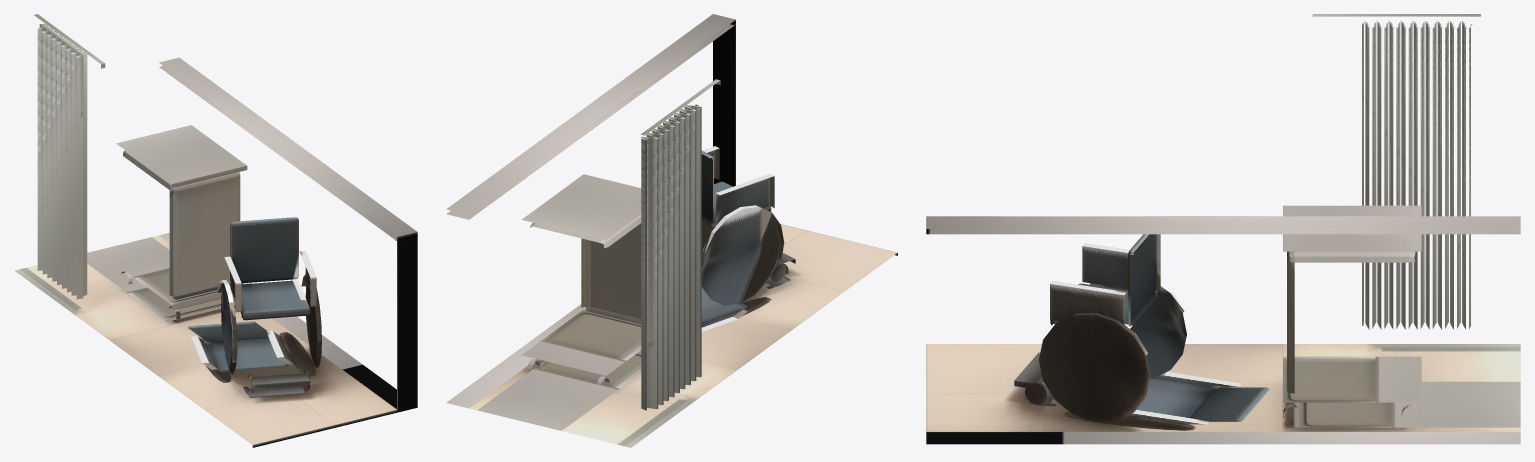
Rendered from side-right-alt.glb.
3 renders of one model, left to right at view 1: azimuth 30°, elevation 25°; view 2: azimuth 150°, elevation 25°; view 3: azimuth 270°, elevation 25°, orthographic. The views are drawn at different scales.
Visible parts, largest first — view 1: sideRightAlt; view 2: sideRightAlt; view 3: sideRightAlt.
Boxes of the visible parts, bbox=[...] form: sideRightAlt: bbox=[15, 14, 417, 447]; sideRightAlt: bbox=[446, 14, 897, 447]; sideRightAlt: bbox=[926, 14, 1520, 444].
Bounding box in the file's own units: 1.2 × 1.87 × 3.
Materials: 1 (1 with a texture image).
